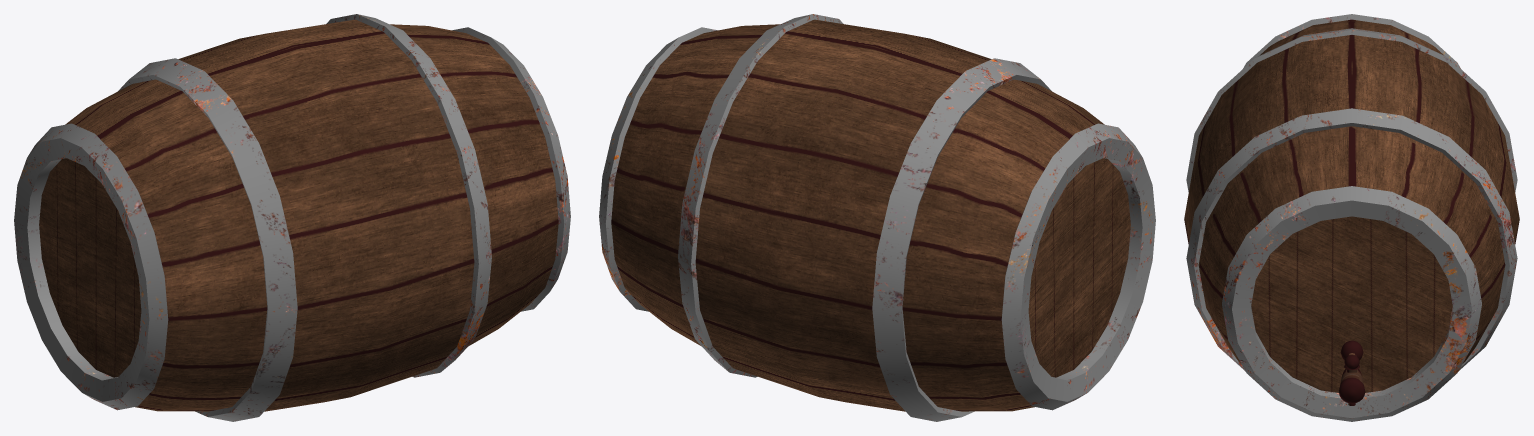
File: spigotbarrel.fbx
3 renders of one model, left to right at view 1: azimuth 30°, elevation 25°; view 2: azimuth 150°, elevation 25°; view 3: azimuth 270°, elevation 25°, orthographic. The views are drawn at different scales.
Visible parts, largest first — view 1: Barrel14; view 2: Barrel14; view 3: Barrel14, pCylinder8, pCylinder6.
Boxes of the visible parts, bbox=[...] form: Barrel14: bbox=[14, 14, 570, 421]; Barrel14: bbox=[599, 14, 1155, 421]; Barrel14: bbox=[1184, 14, 1519, 421]; pCylinder8: bbox=[1339, 369, 1365, 403]; pCylinder6: bbox=[1340, 340, 1363, 405].
Size of the model in its own units: 1.56 by 1.12 by 1.12.
